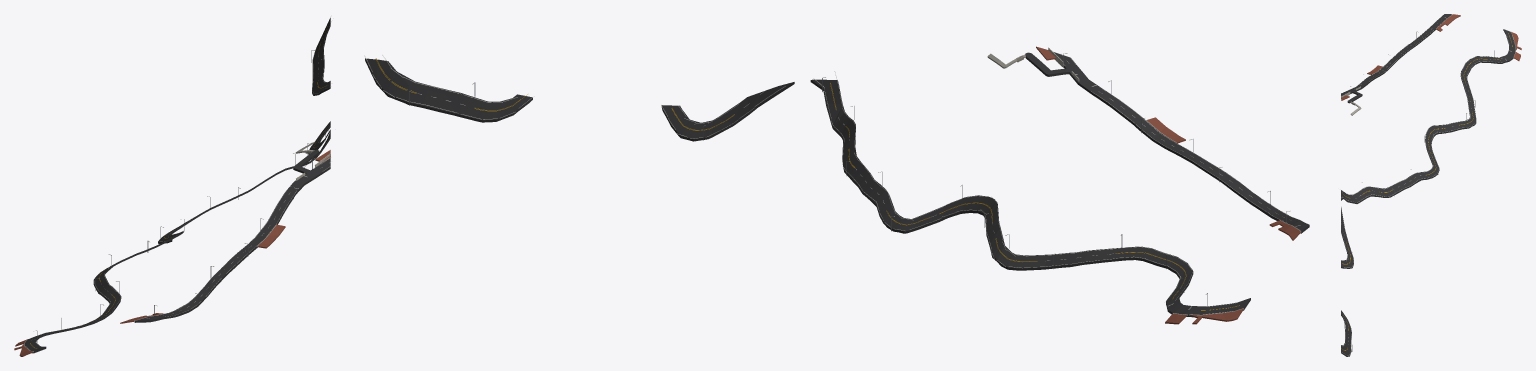
The picture shows the model from 3 angles, left to right: view 1: azimuth 90°, elevation 25°; view 2: azimuth 150°, elevation 25°; view 3: azimuth 270°, elevation 25°; orthographic projection. The views are drawn at different scales.
Bounding box in the file's own units: 578 × 111 × 175.
